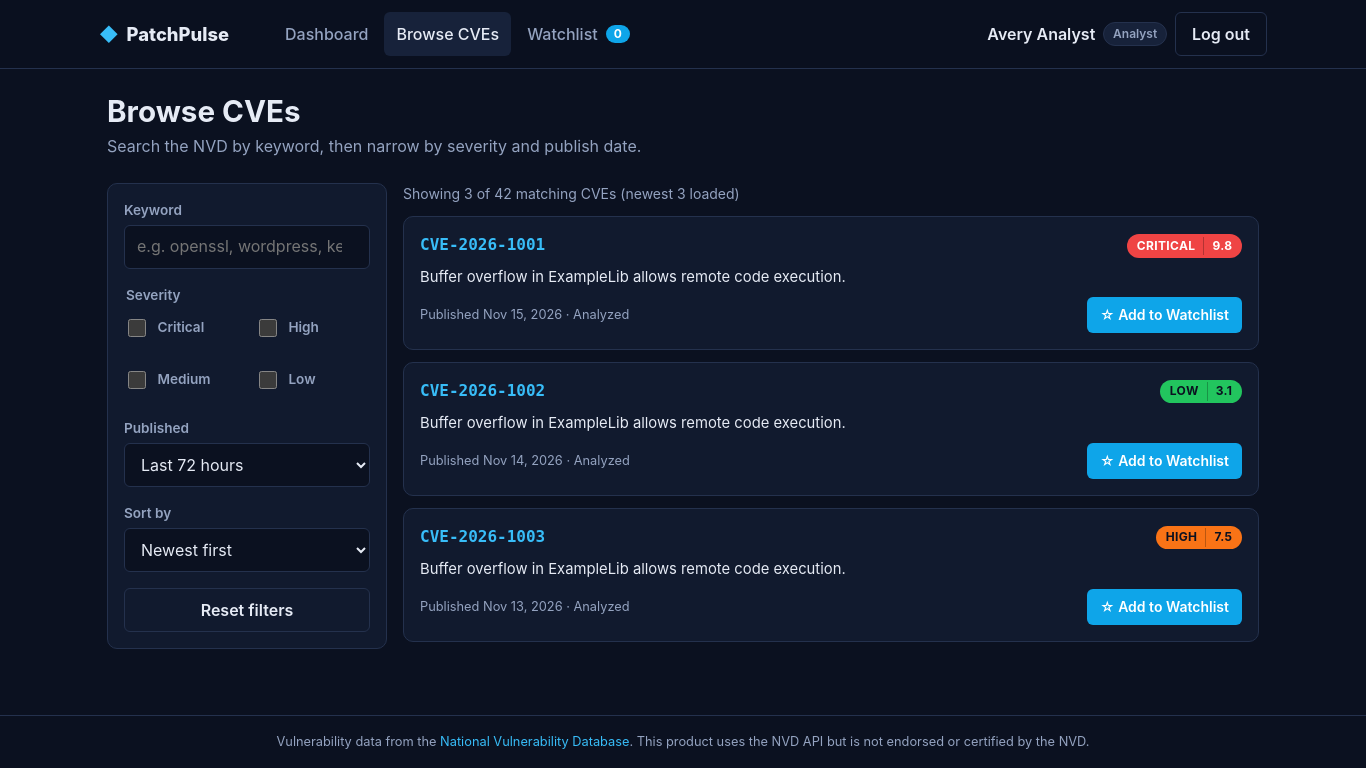
it: BrowsePage › filters results by severity
This screenshot has width=1366, height=768.
Expected: the link "CVE-2026-1001" is shown, 420,234 -> 545,258
What coordinates should you click on to do the following:
click the checkbox labelled "Low"
I would click on:
 (268, 380)
Its box is 259,371 -> 277,389.
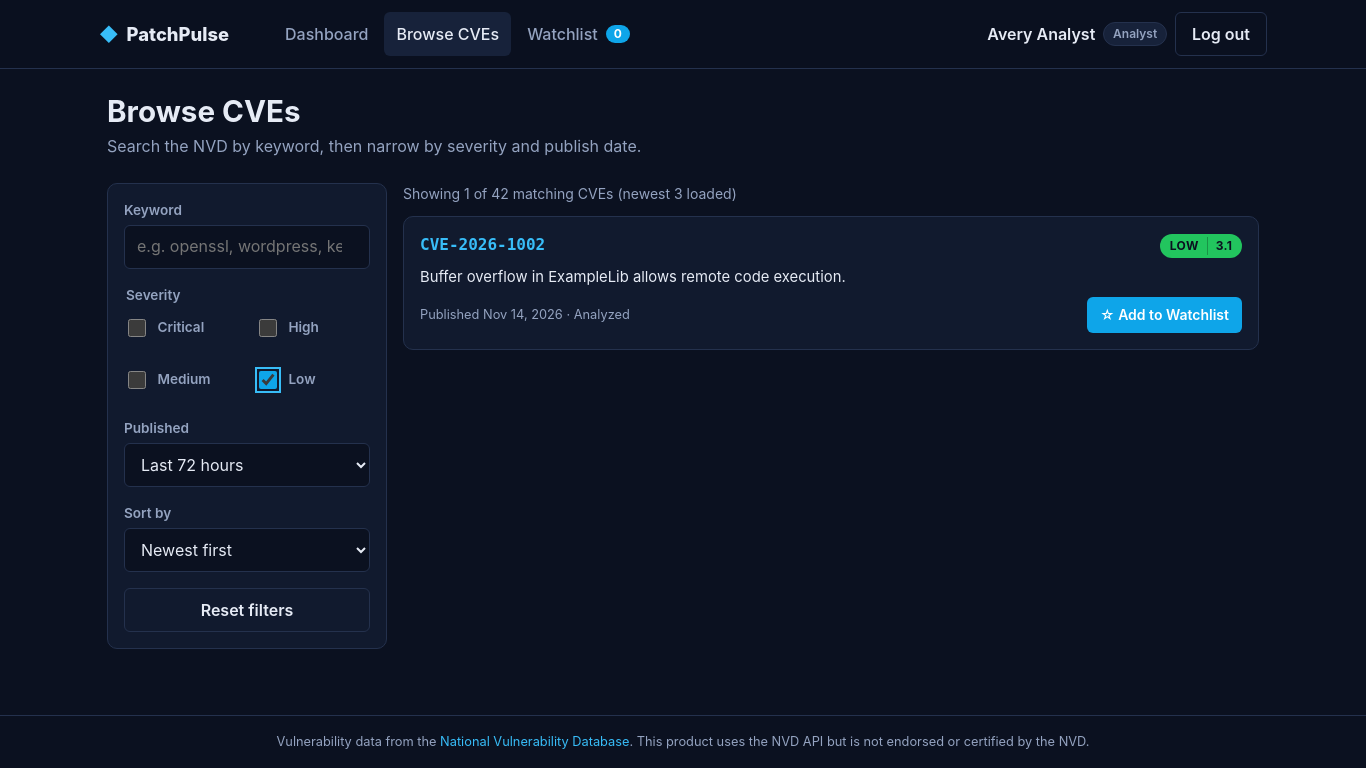
Expected: the link "CVE-2026-1002" is shown, 420,234 -> 545,258
Expected: the link "CVE-2026-1001" is gone
